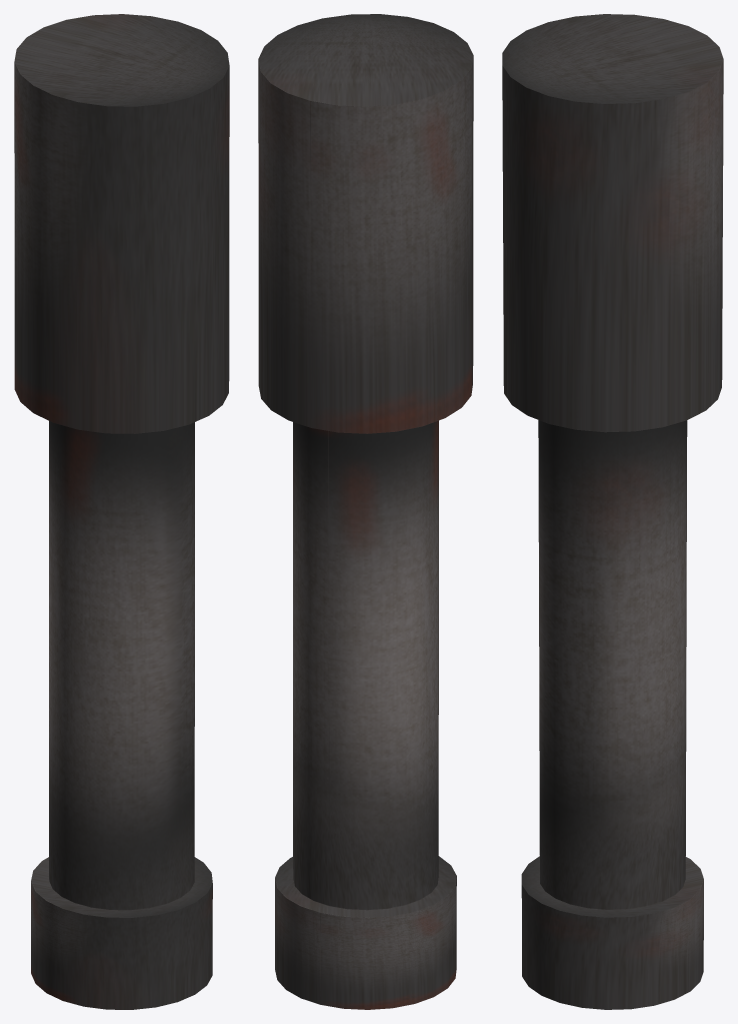
File: Flashlight with full texture.fbx
3 renders of one model, left to right at view 1: azimuth 30°, elevation 25°; view 2: azimuth 150°, elevation 25°; view 3: azimuth 270°, elevation 25°, orthographic.
Visible parts, largest first — view 1: Flashlight_m; view 2: Flashlight_m; view 3: Flashlight_m.
Boxes of the visible parts, <box> form: Flashlight_m: <box>14,14,229,1009</box>; Flashlight_m: <box>258,14,473,1009</box>; Flashlight_m: <box>502,14,723,1009</box>.
Size of what is drawn, in the model's own units: 2.31 by 2.4 by 10.9.
